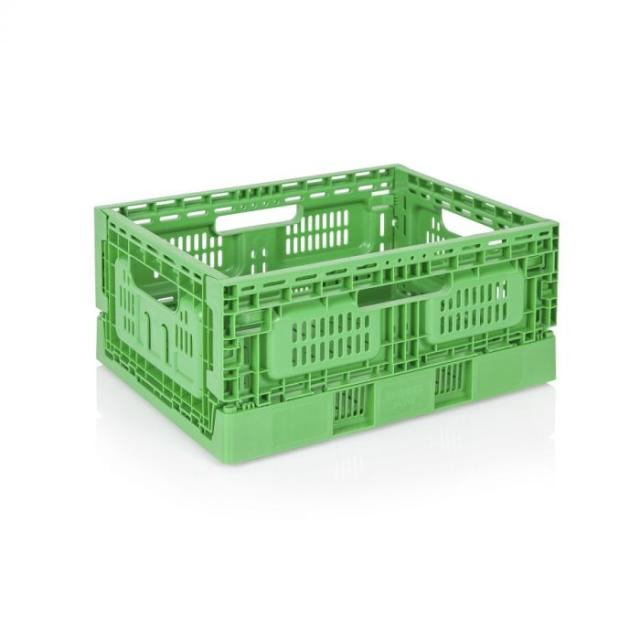basket: (83, 152, 577, 474)
